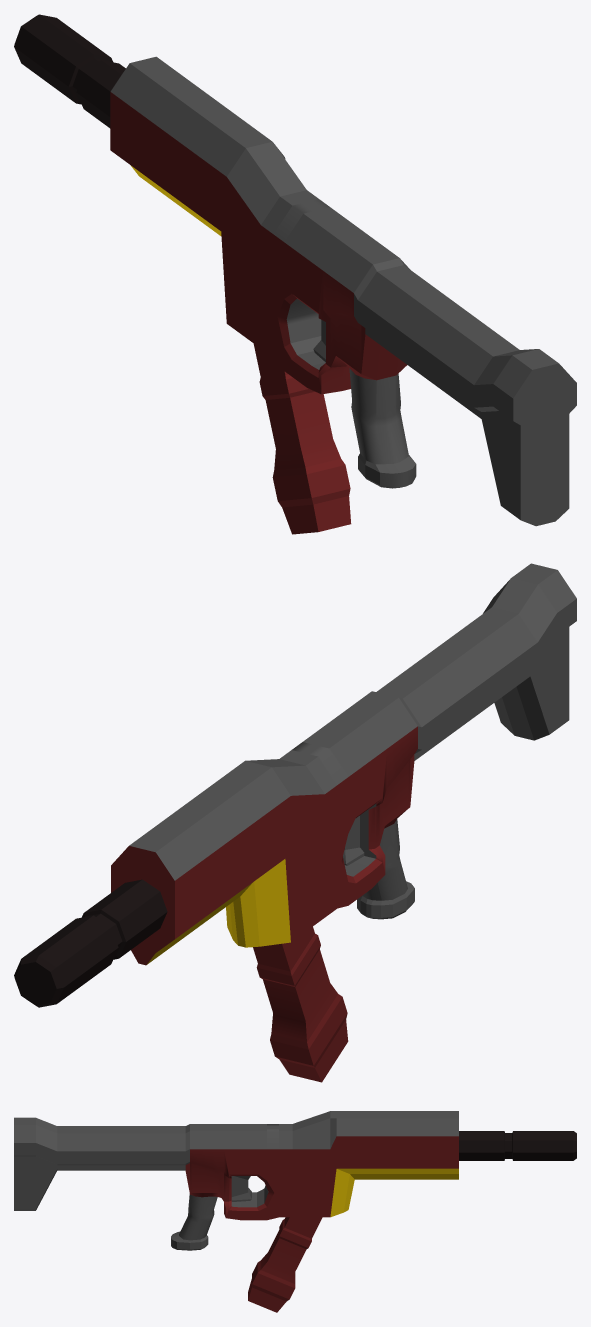
The model's file is SMG2.fbx.
3 renders of one model, top to bottom at view 1: azimuth 30°, elevation 25°; view 2: azimuth 150°, elevation 25°; view 3: azimuth 270°, elevation 25°, orthographic. The views are drawn at different scales.
Parts seen in each view (by area): view 1: pCylinder34; view 2: pCylinder34; view 3: pCylinder34.
Boxes of the visible parts, box(x1,y1,x2,y2) form: pCylinder34: box(14, 14, 576, 534); pCylinder34: box(14, 563, 576, 1082); pCylinder34: box(14, 1111, 576, 1312).
Size of the model in its own units: 0.5099 by 2.68 by 7.05.
